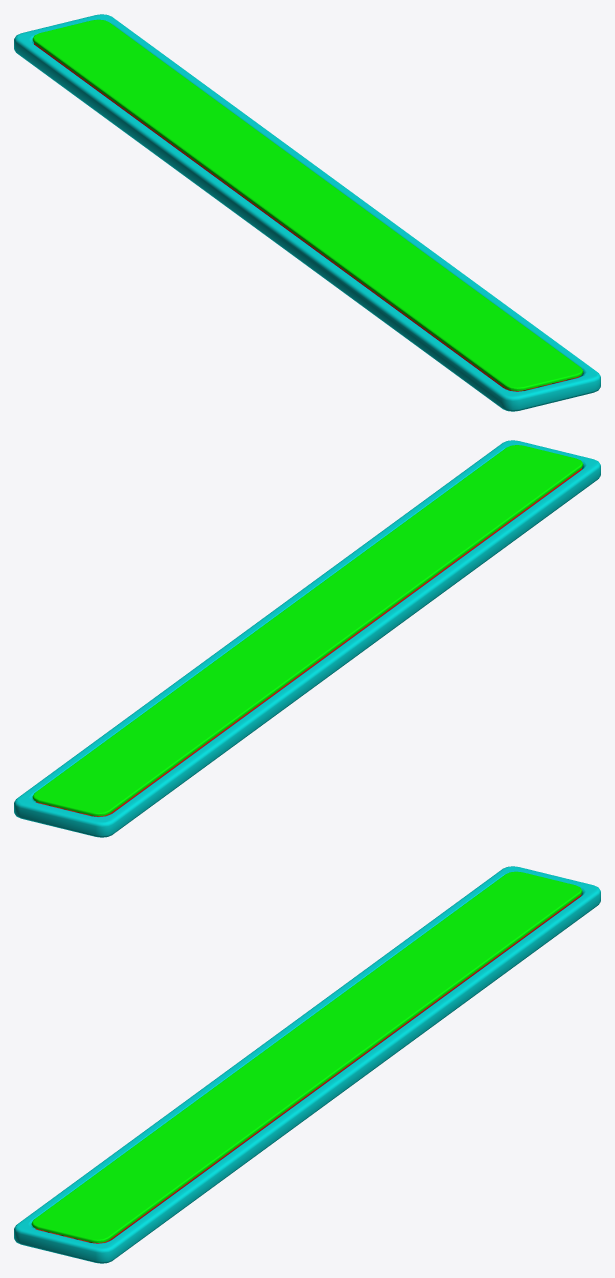
File: Lightstrip.fbx
The picture shows the model from 3 angles, top to bottom: view 1: azimuth 30°, elevation 25°; view 2: azimuth 150°, elevation 25°; view 3: azimuth 330°, elevation 25°; orthographic projection.
Parts seen in each view (by area): view 1: Lightstrip; view 2: Lightstrip; view 3: Lightstrip.
Part boxes in pixels (<box>): Lightstrip: <box>14,14,600,411</box>; Lightstrip: <box>14,440,600,837</box>; Lightstrip: <box>14,866,600,1263</box>.
Size of the model in its own units: 17.62 by 2.94 by 156.
